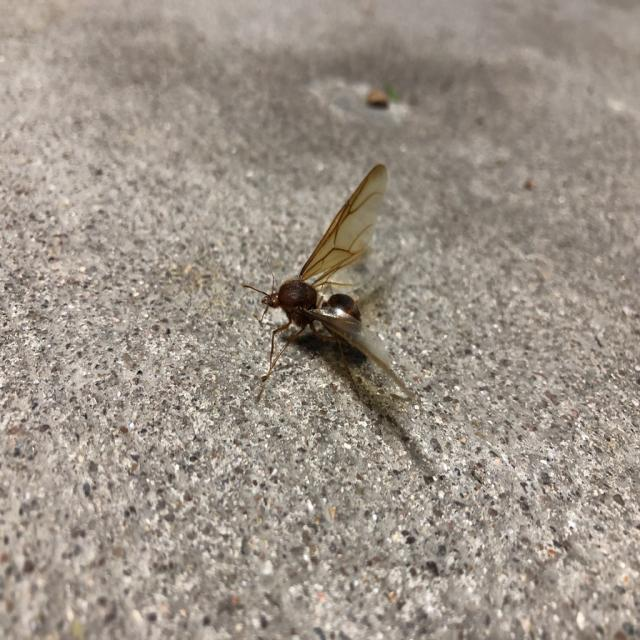Alive-Female-Alate: (242, 167, 422, 414)
